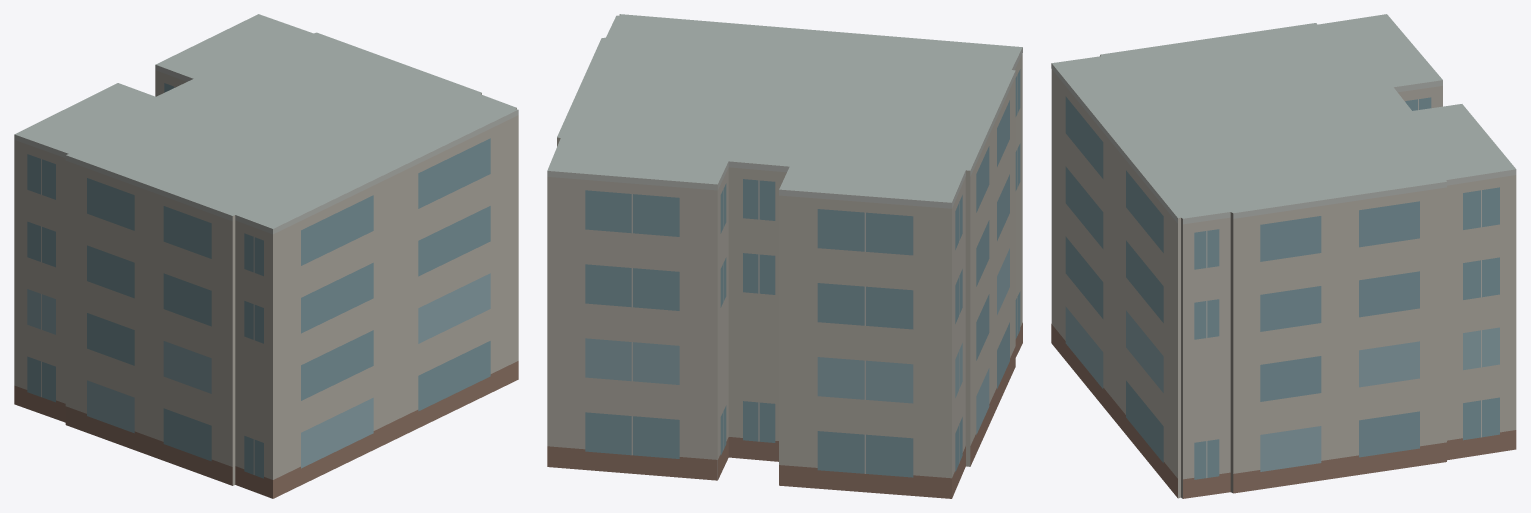
File: survey-upis-32823607.glb
The picture shows the model from 3 angles, left to right: view 1: azimuth 30°, elevation 25°; view 2: azimuth 150°, elevation 25°; view 3: azimuth 270°, elevation 25°; orthographic projection. The views are drawn at different scales.
Visible parts, largest first — view 1: survey-upis-32823607.tmp; view 2: survey-upis-32823607.tmp; view 3: survey-upis-32823607.tmp.
Part boxes in pixels (x1=…): survey-upis-32823607.tmp: x1=14, y1=14, x2=518, y2=498; survey-upis-32823607.tmp: x1=547, y1=14, x2=1022, y2=498; survey-upis-32823607.tmp: x1=1051, y1=14, x2=1516, y2=498.
Bounding box in the file's own units: 18.98 × 12.1 × 18.21.
